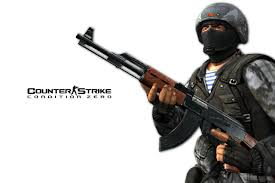gun: (75, 25, 259, 175)
